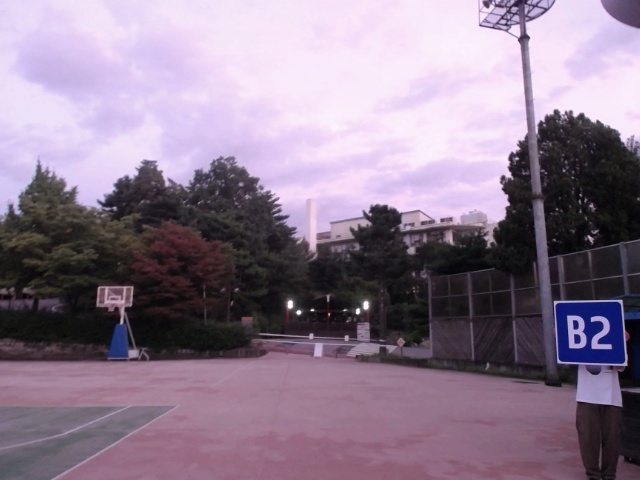delivery_b2: (554, 300, 628, 365)
